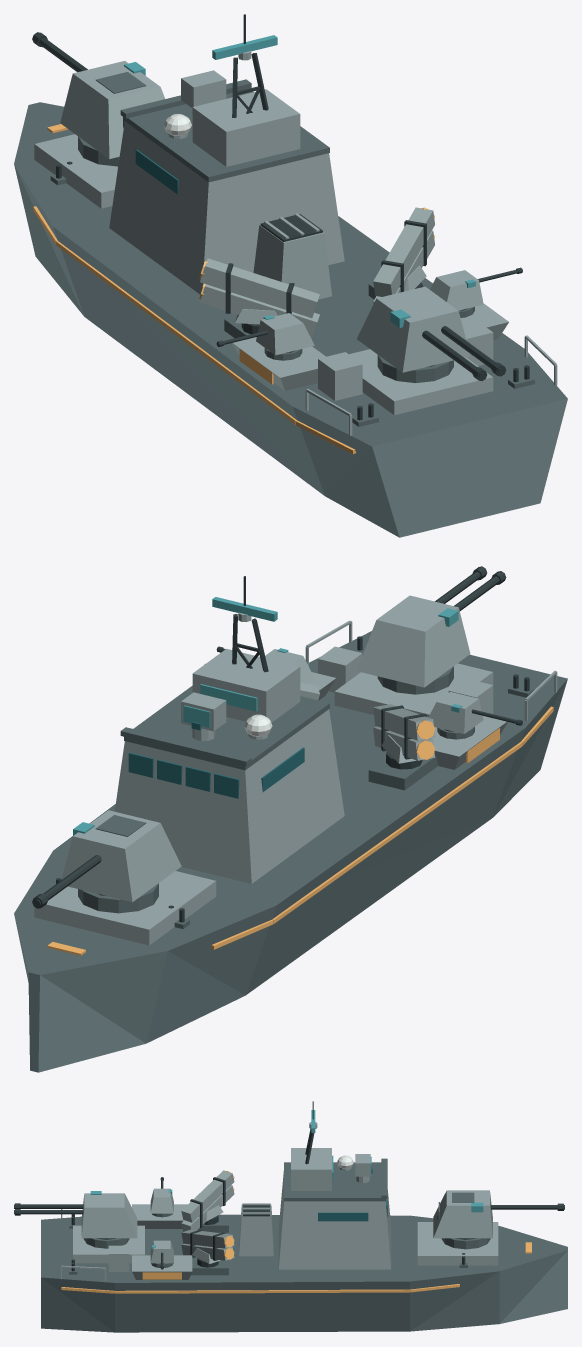
Rendered from ESC_STK_T3.fbx.
The picture shows the model from 3 angles, top to bottom: view 1: azimuth 30°, elevation 25°; view 2: azimuth 150°, elevation 25°; view 3: azimuth 270°, elevation 25°; orthographic projection. The views are drawn at different scales.
Parts seen in each view (by area): view 1: TMP_100652, TMP_100659, FireDirectionCabin, TMP_100415, TMP_100220, TMP_100349, ArmouredAftTurretDeck, TMP_100766, ArmouredForeTurretDeck, MissileBankPortTube2, MissileBankStarboardTube2, TMP_100529 (+14 smaller); view 2: TMP_100652, TMP_100659, TMP_100415, TMP_100220, ArmouredForeTurretDeck, TMP_100349, FireDirectionCabin, ArmouredAftTurretDeck, RoleHullStripe-1_1, TMP_100529, TMP_100627, BridgeBrow (+14 smaller); view 3: TMP_100652, TMP_100659, TMP_100220, TMP_100415, TMP_100349, ArmouredForeTurretDeck, FireDirectionCabin, TMP_100766, ArmouredAftTurretDeck, RoleHullStripe1_1, TMP_100530, MissileBankPortTube2 (+17 smaller).
Part boxes in pixels (x1,y1,x2,y2): TMP_100652: (14, 102, 567, 537); TMP_100659: (109, 121, 344, 294); FireDirectionCabin: (192, 89, 300, 166); TMP_100415: (357, 286, 470, 372); TMP_100220: (60, 61, 164, 158); TMP_100349: (124, 91, 329, 182); ArmouredAftTurretDeck: (349, 349, 493, 415); TMP_100766: (253, 224, 331, 299); ArmouredForeTurretDeck: (34, 134, 117, 208); MissileBankPortTube2: (200, 258, 319, 318); MissileBankStarboardTube2: (373, 207, 434, 296); TMP_100529: (231, 337, 325, 390); TMP_100652: (14, 631, 567, 1072); TMP_100659: (114, 709, 344, 883); TMP_100415: (356, 595, 470, 687); TMP_100220: (61, 810, 181, 902); ArmouredForeTurretDeck: (34, 871, 216, 945); TMP_100349: (124, 685, 329, 770); FireDirectionCabin: (192, 648, 300, 722); ArmouredAftTurretDeck: (334, 663, 493, 717); RoleHullStripe-1_1: (272, 742, 522, 923); TMP_100529: (431, 716, 507, 769); TMP_100627: (428, 692, 483, 733); BridgeBrow: (120, 727, 251, 766); TMP_100652: (41, 1214, 567, 1332); TMP_100659: (278, 1171, 391, 1269); TMP_100220: (433, 1190, 492, 1238); TMP_100415: (81, 1193, 137, 1238); TMP_100349: (284, 1162, 385, 1201); ArmouredForeTurretDeck: (417, 1222, 498, 1265); FireDirectionCabin: (291, 1148, 331, 1190); TMP_100766: (239, 1204, 273, 1256); ArmouredAftTurretDeck: (73, 1225, 144, 1263); RoleHullStripe1_1: (115, 1289, 409, 1293); TMP_100530: (132, 1255, 192, 1279); MissileBankPortTube2: (181, 1170, 234, 1222).
Size of the model in its own units: 363 by 389 by 946.
